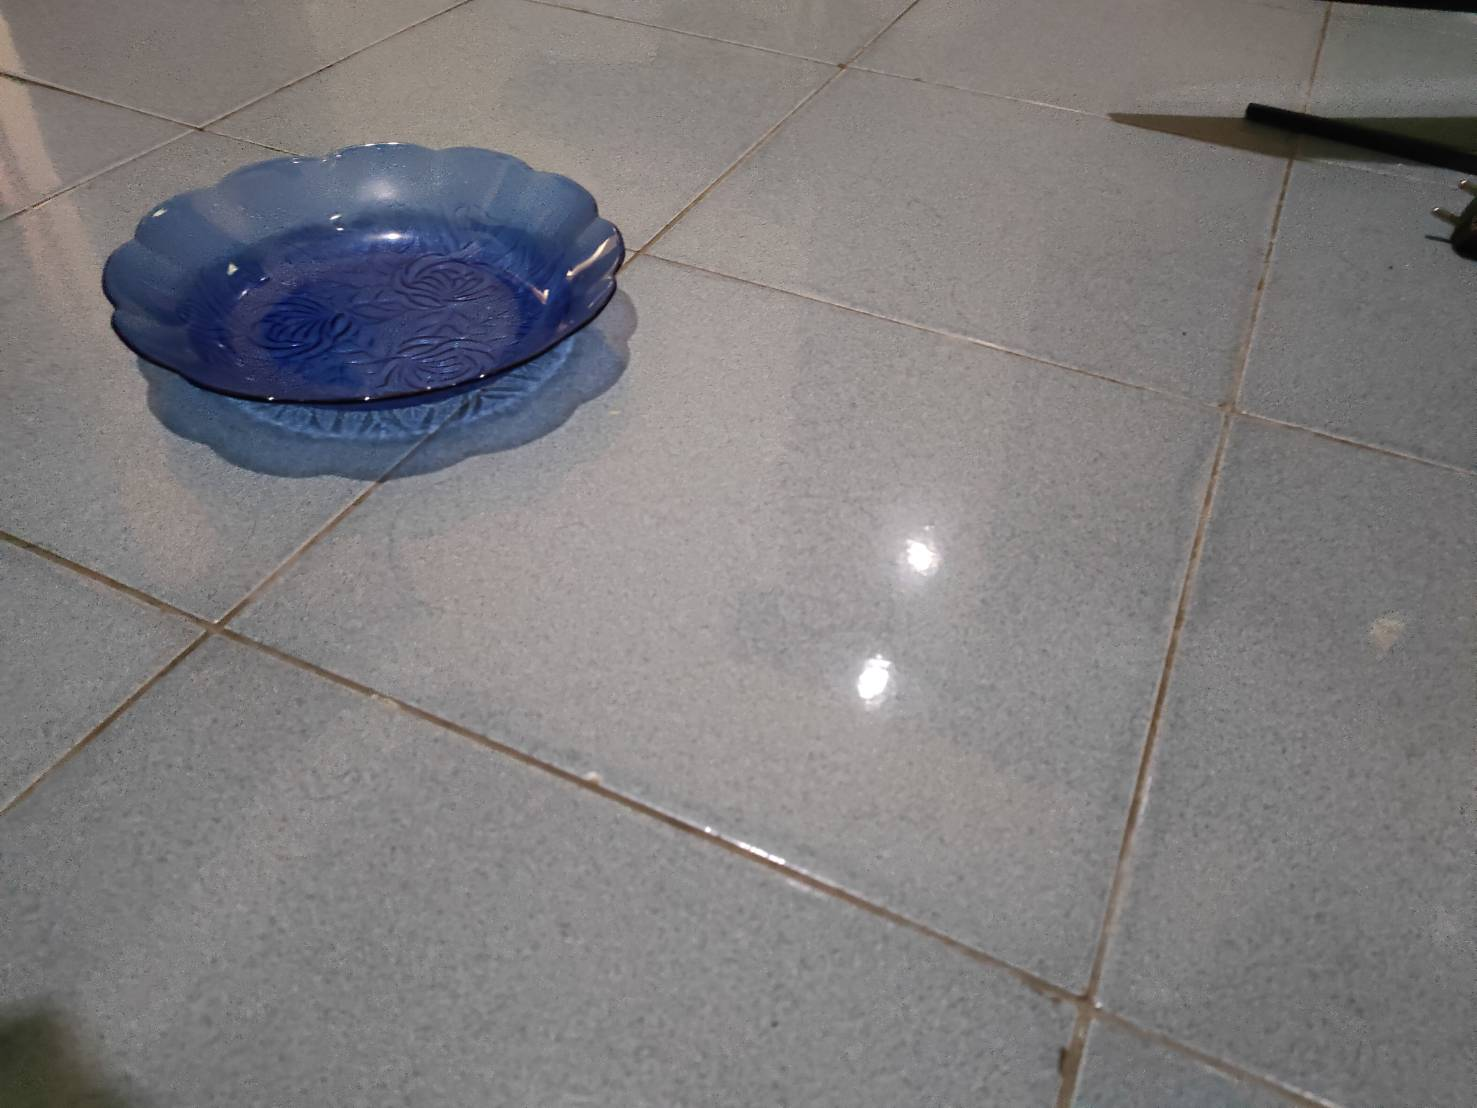piring: (102, 135, 632, 427)
